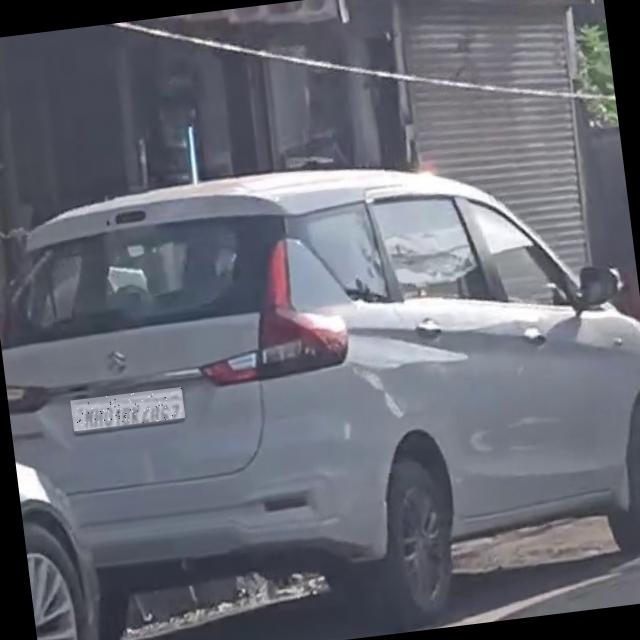Plate: (71, 388, 186, 432)
